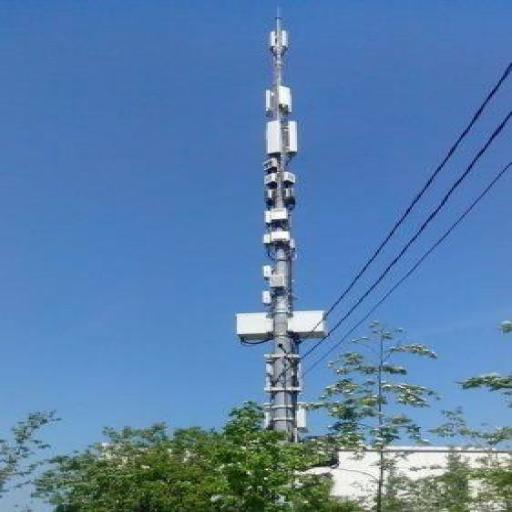odn_pole: (233, 8, 326, 444)
